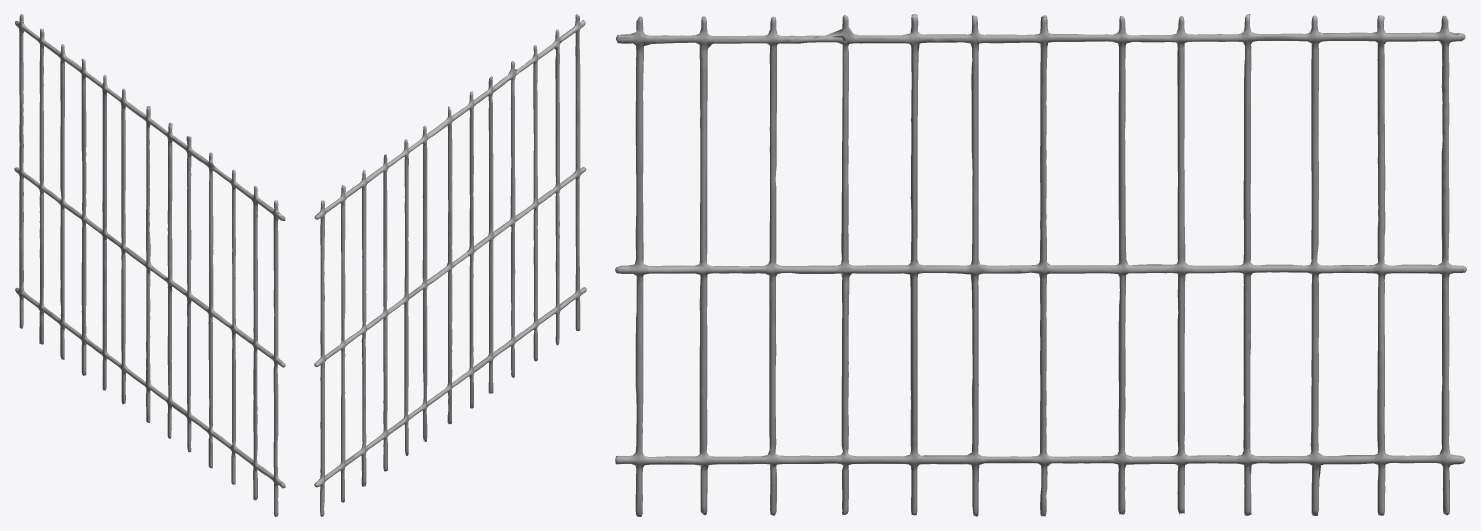
File: Prison_bars_1226095027_texture.fbx
3 views of the same model, side by side, from view 1: azimuth 30°, elevation 25°; view 2: azimuth 150°, elevation 25°; view 3: azimuth 270°, elevation 25° (orthographic). The views are drawn at different scales.
Visible parts, largest first — view 1: Mesh1_Mesh1.206; view 2: Mesh1_Mesh1.206; view 3: Mesh1_Mesh1.206.
Part boxes in pixels (<box>): Mesh1_Mesh1.206: <box>14,14,285,516</box>; Mesh1_Mesh1.206: <box>314,14,586,516</box>; Mesh1_Mesh1.206: <box>615,14,1466,516</box>.
Bounding box in the file's own units: 2.3 × 130 × 200.
Materials: 1 (1 with a texture image).
